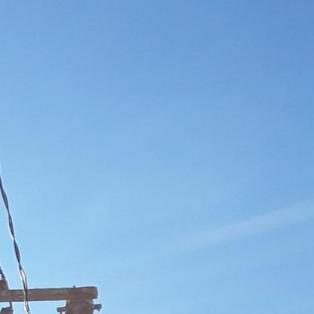Poste: (8, 272, 119, 314)
